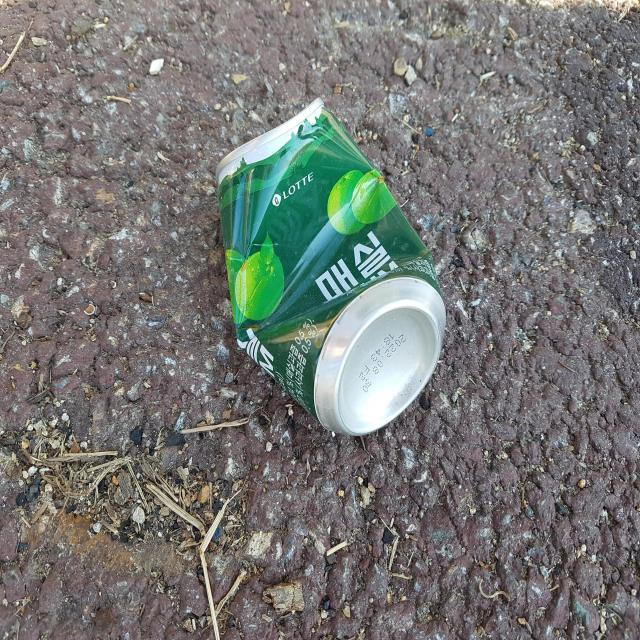can: (216, 97, 446, 436)
